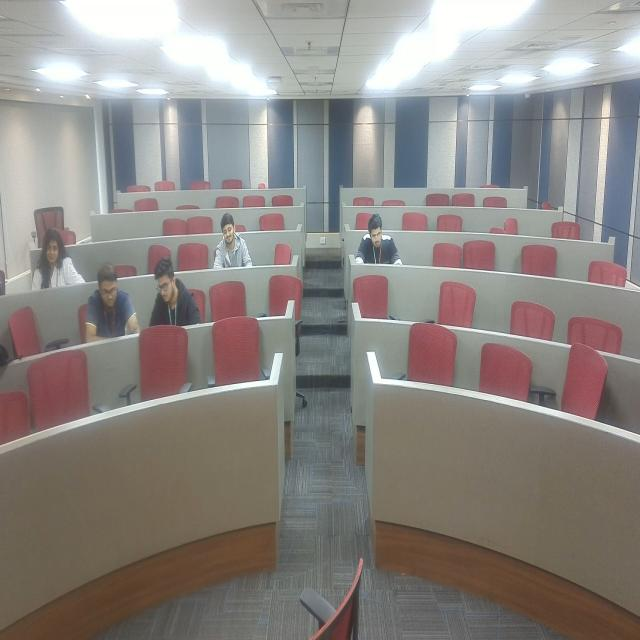cheating: (146, 246, 200, 330), (24, 229, 85, 287)
non-cheating: (82, 259, 142, 345), (204, 176, 251, 274), (350, 204, 408, 272)
